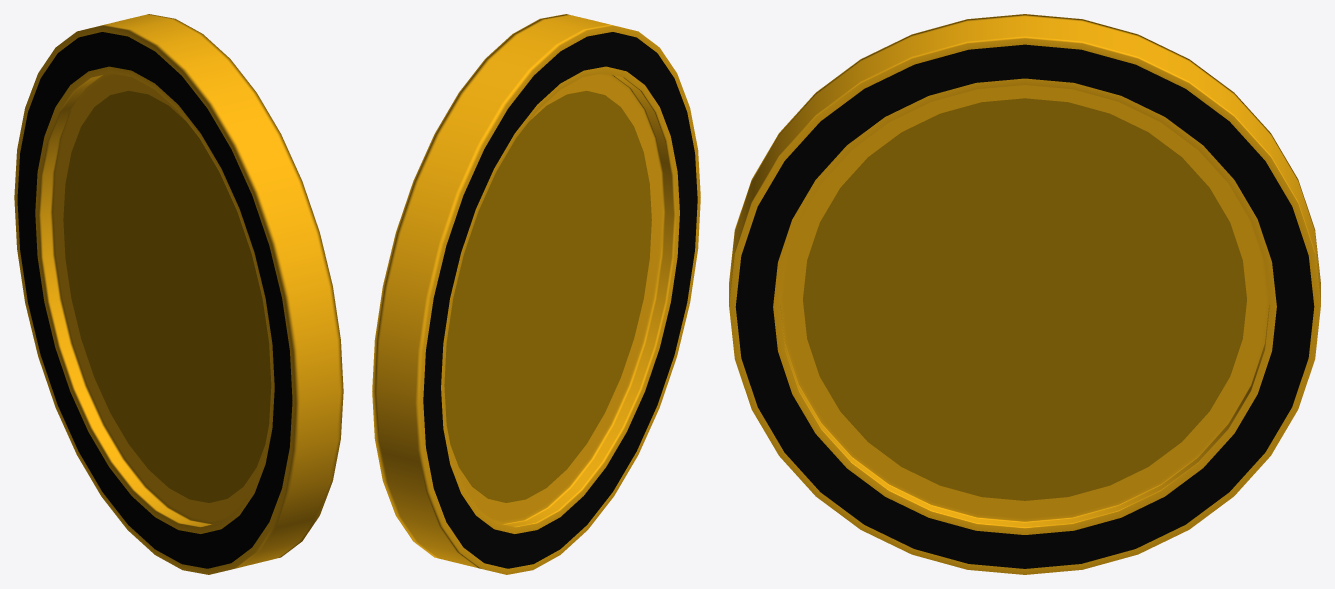
File: coinMultiplierCoin.fbx
3 renders of one model, left to right at view 1: azimuth 30°, elevation 25°; view 2: azimuth 150°, elevation 25°; view 3: azimuth 270°, elevation 25°, orthographic. The views are drawn at different scales.
Parts seen in each view (by area): view 1: Cylinder.016; view 2: Cylinder.016; view 3: Cylinder.016.
Part boxes in pixels (x1=…): Cylinder.016: x1=14, y1=14, x2=343, y2=574; Cylinder.016: x1=372, y1=14, x2=700, y2=574; Cylinder.016: x1=729, y1=14, x2=1320, y2=574.
Size of the model in its own units: 19.84 by 200 by 200.
